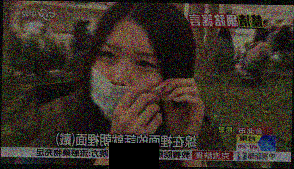mask_weared_incorrect: (87, 36, 163, 125)
